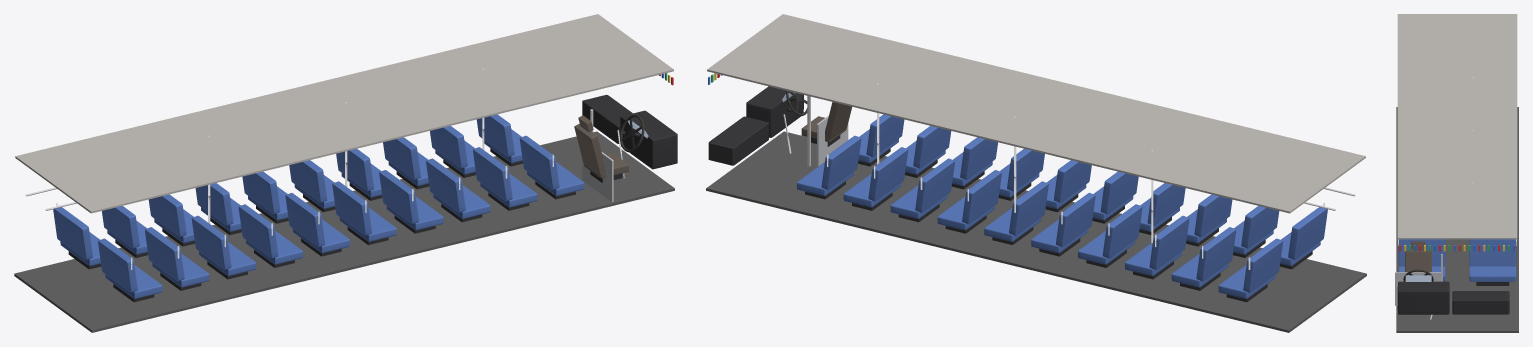
The model's file is interior_bus.glb.
3 renders of one model, left to right at view 1: azimuth 30°, elevation 25°; view 2: azimuth 150°, elevation 25°; view 3: azimuth 270°, elevation 25°, orthographic. The views are drawn at different scales.
Visible parts, largest first — view 1: Cabin; view 2: Cabin; view 3: Cabin, SteeringWheel.
Boxes of the visible parts, x1=… form: Cabin: x1=14, y1=14, x2=677, y2=332; Cabin: x1=706, y1=14, x2=1366, y2=332; Cabin: x1=1395, y1=14, x2=1518, y2=332; SteeringWheel: x1=1403, y1=269, x2=1433, y2=281.
Bounding box in the file's own units: 10.58 × 2.02 × 2.38.
